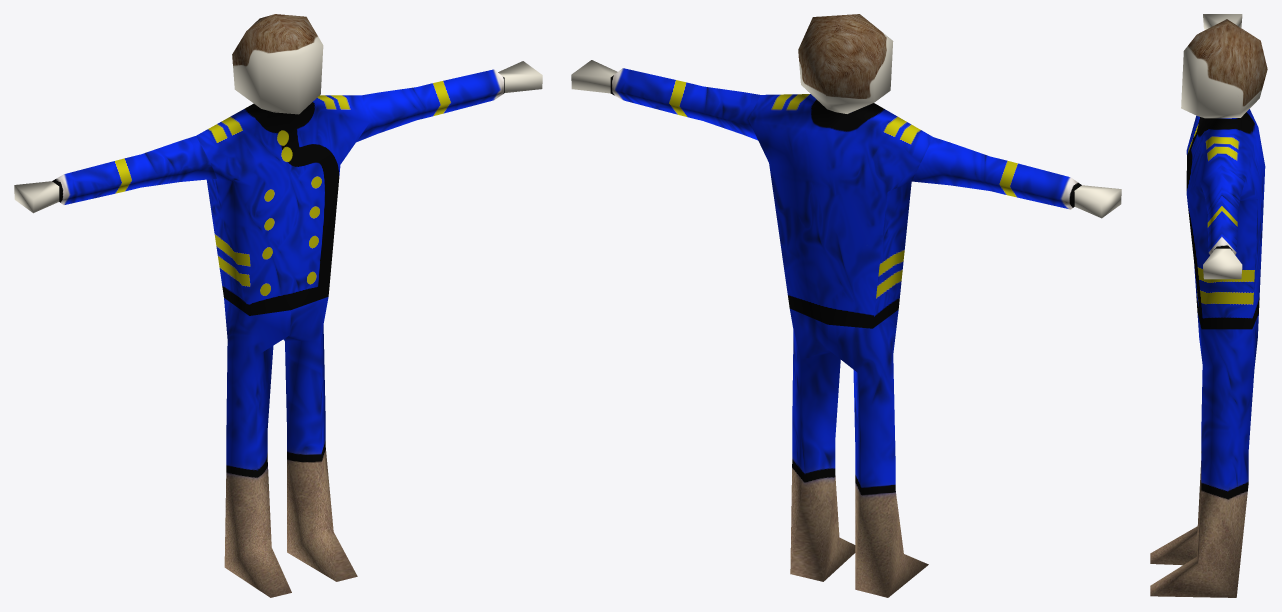
File: swordsman.DAE
3 renders of one model, left to right at view 1: azimuth 30°, elevation 25°; view 2: azimuth 150°, elevation 25°; view 3: azimuth 270°, elevation 25°, orthographic. The views are drawn at different scales.
Parts seen in each view (by area): view 1: Box001; view 2: Box001; view 3: Box001.
Boxes of the visible parts, bbox=[...] form: Box001: bbox=[14, 14, 542, 597]; Box001: bbox=[571, 14, 1121, 597]; Box001: bbox=[1150, 14, 1267, 597].
Bounding box in the file's own units: 83.74 × 16.56 × 85.66.
